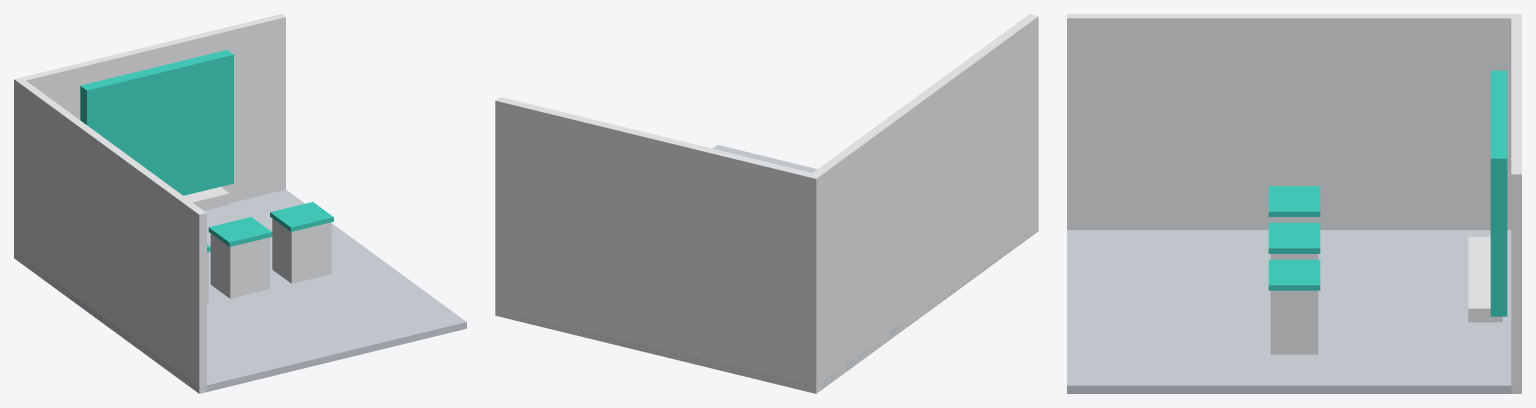
3 renders of one model, left to right at view 1: azimuth 30°, elevation 25°; view 2: azimuth 150°, elevation 25°; view 3: azimuth 270°, elevation 25°, orthographic. The views are drawn at different scales.
Visible parts, largest first — view 1: Exhibition Booth Concept; view 2: Exhibition Booth Concept; view 3: Exhibition Booth Concept.
Boxes of the visible parts, x1,y1,x2,y2 form: Exhibition Booth Concept: (14, 14, 466, 393); Exhibition Booth Concept: (495, 14, 1038, 393); Exhibition Booth Concept: (1067, 14, 1521, 393).
Size of the model in its own units: 5 by 3.2 by 6.
